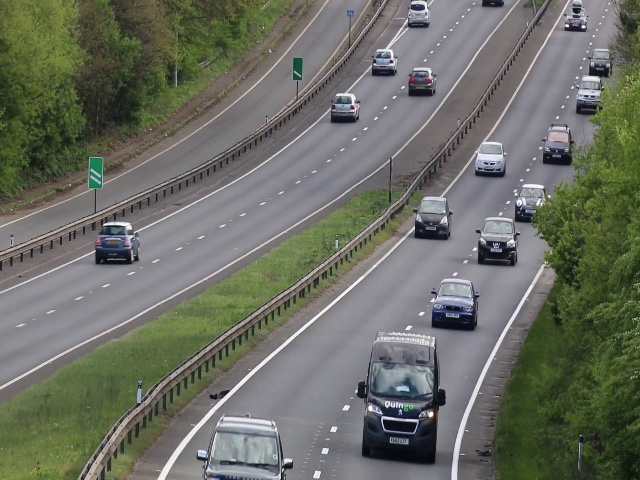car: (359, 345, 443, 466), (196, 417, 288, 480), (431, 279, 478, 329), (95, 222, 139, 263), (477, 218, 517, 263), (413, 196, 449, 238), (541, 129, 571, 163), (405, 65, 437, 96), (330, 90, 361, 122), (476, 146, 506, 176), (372, 45, 397, 77), (518, 182, 536, 218), (577, 82, 599, 110), (408, 2, 431, 26), (588, 48, 610, 73), (567, 9, 585, 32)
